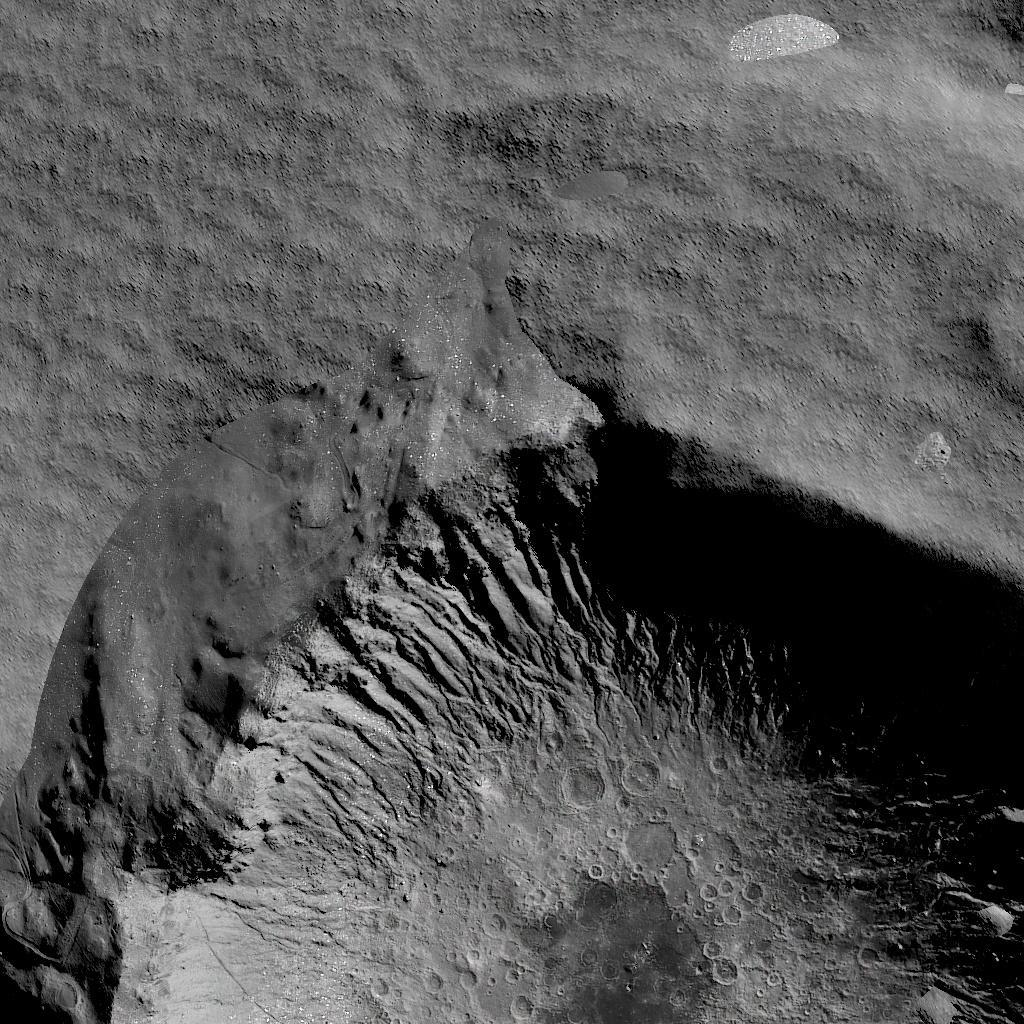Crater: (0, 266, 1024, 1019), (961, 0, 1024, 93)
Plan surface: (14, 5, 960, 237)
